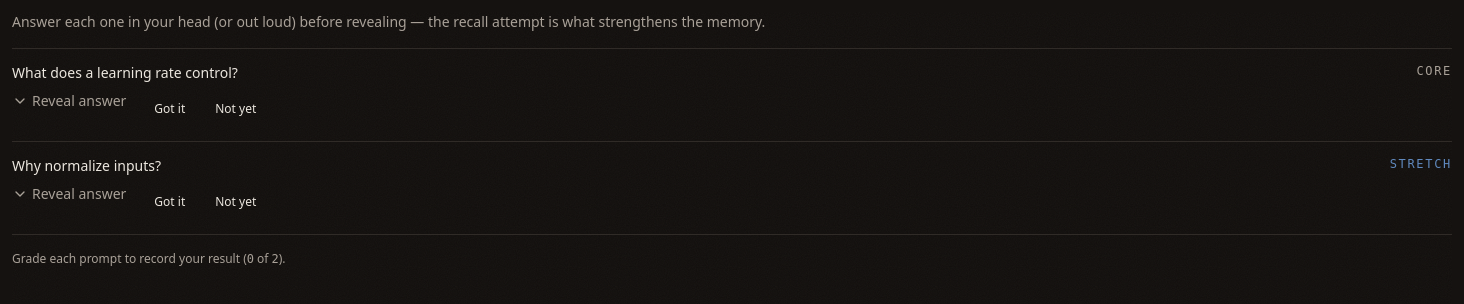
Test: CourseRecallList — self-grading (wave F) › recording shows the count back even as the store flips recordedToday live
The image size is (1464, 304).
Click the button "Got it" below "What does a learning rate control?": click(170, 109) [142,91,197,127]
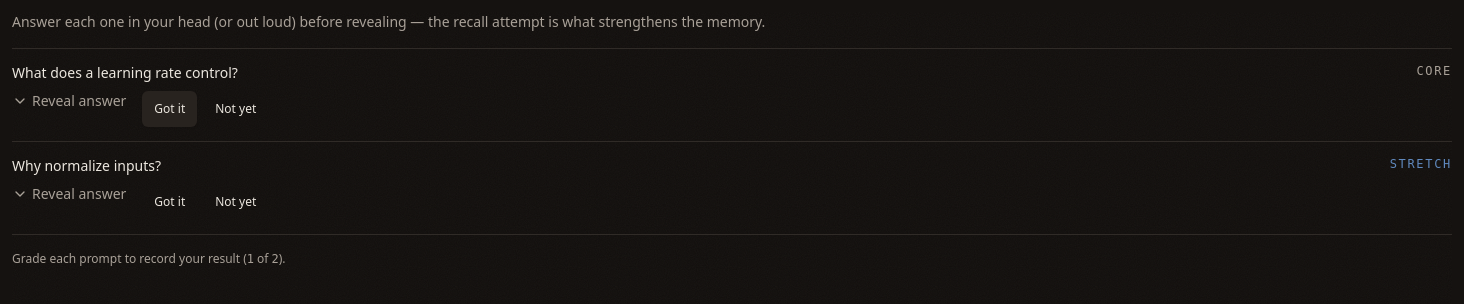
Click the button "Not yet" below "Why normalize inputs?": click(236, 202) [203,184,268,220]
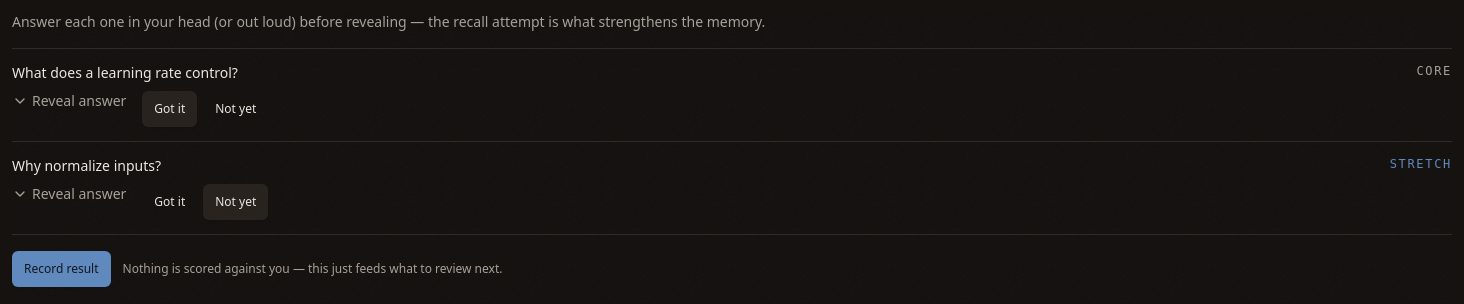
Click the button "Record result": click(61, 269) [12,251,110,287]
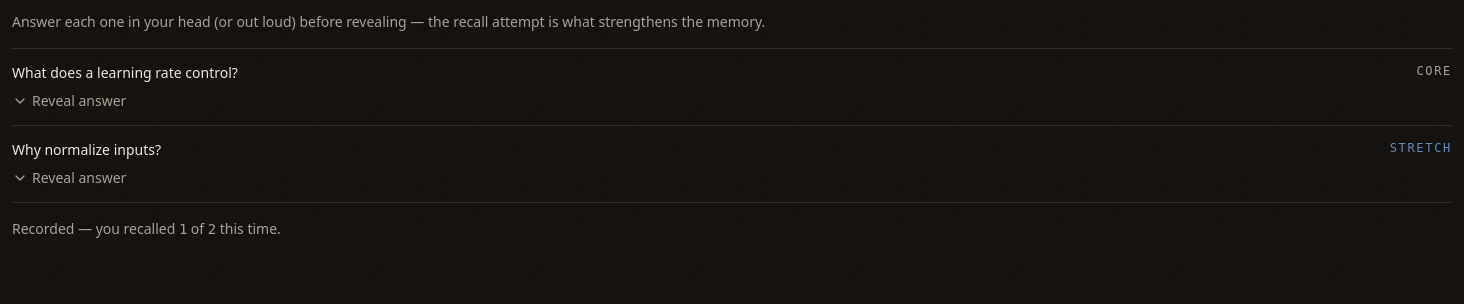
Result: the text "Recorded — you recalled 1 of 2 this time." is shown at [12,219,281,238]
Result: the button "Got it" is gone
